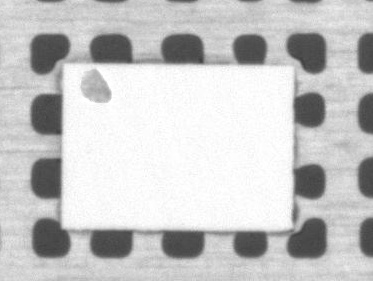DIE_INK: (72, 68, 115, 107)
